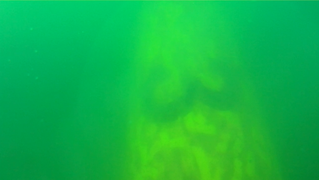3: (140, 56, 243, 123)
pipe: (125, 1, 282, 179)
